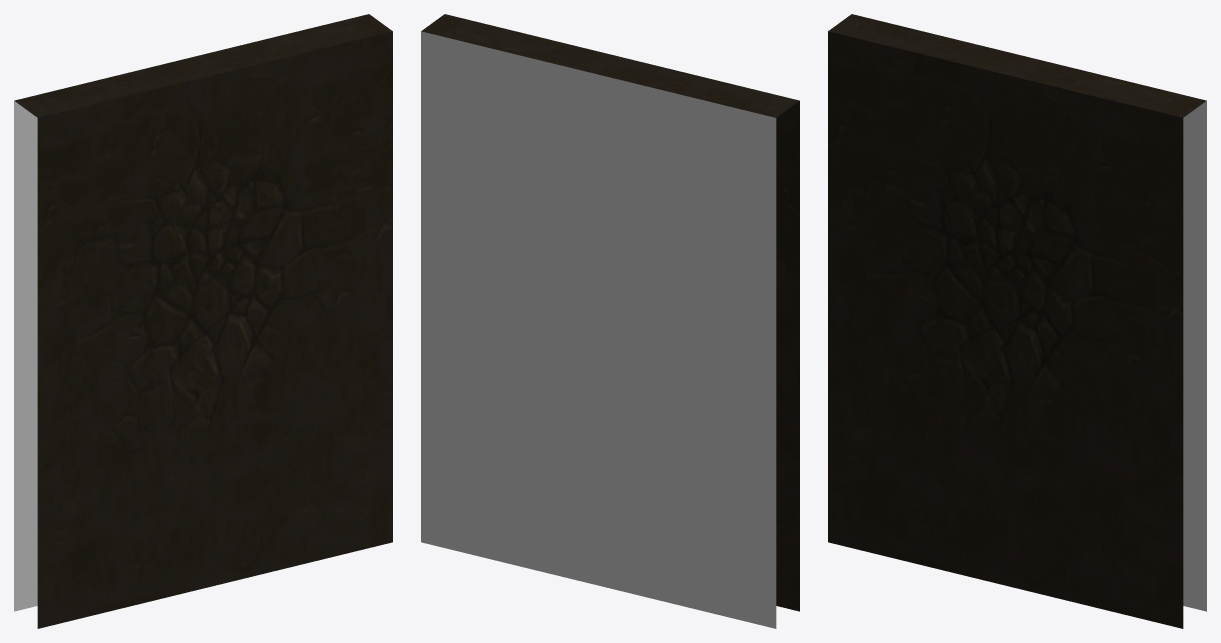
The model's file is fortress_wall_straight_03_c.fbx.
3 renders of one model, left to right at view 1: azimuth 30°, elevation 25°; view 2: azimuth 150°, elevation 25°; view 3: azimuth 330°, elevation 25°, orthographic.
Parts seen in each view (by area): view 1: fortress_wall_straight_03_c-0; view 2: fortress_wall_straight_03_c-0; view 3: fortress_wall_straight_03_c-0.
Boxes of the visible parts, box(x1,y1,x2,y2) form: fortress_wall_straight_03_c-0: box(14, 14, 392, 628); fortress_wall_straight_03_c-0: box(421, 14, 799, 628); fortress_wall_straight_03_c-0: box(828, 14, 1206, 628).
Bounding box in the file's own units: 4 × 5.5 × 0.462.
